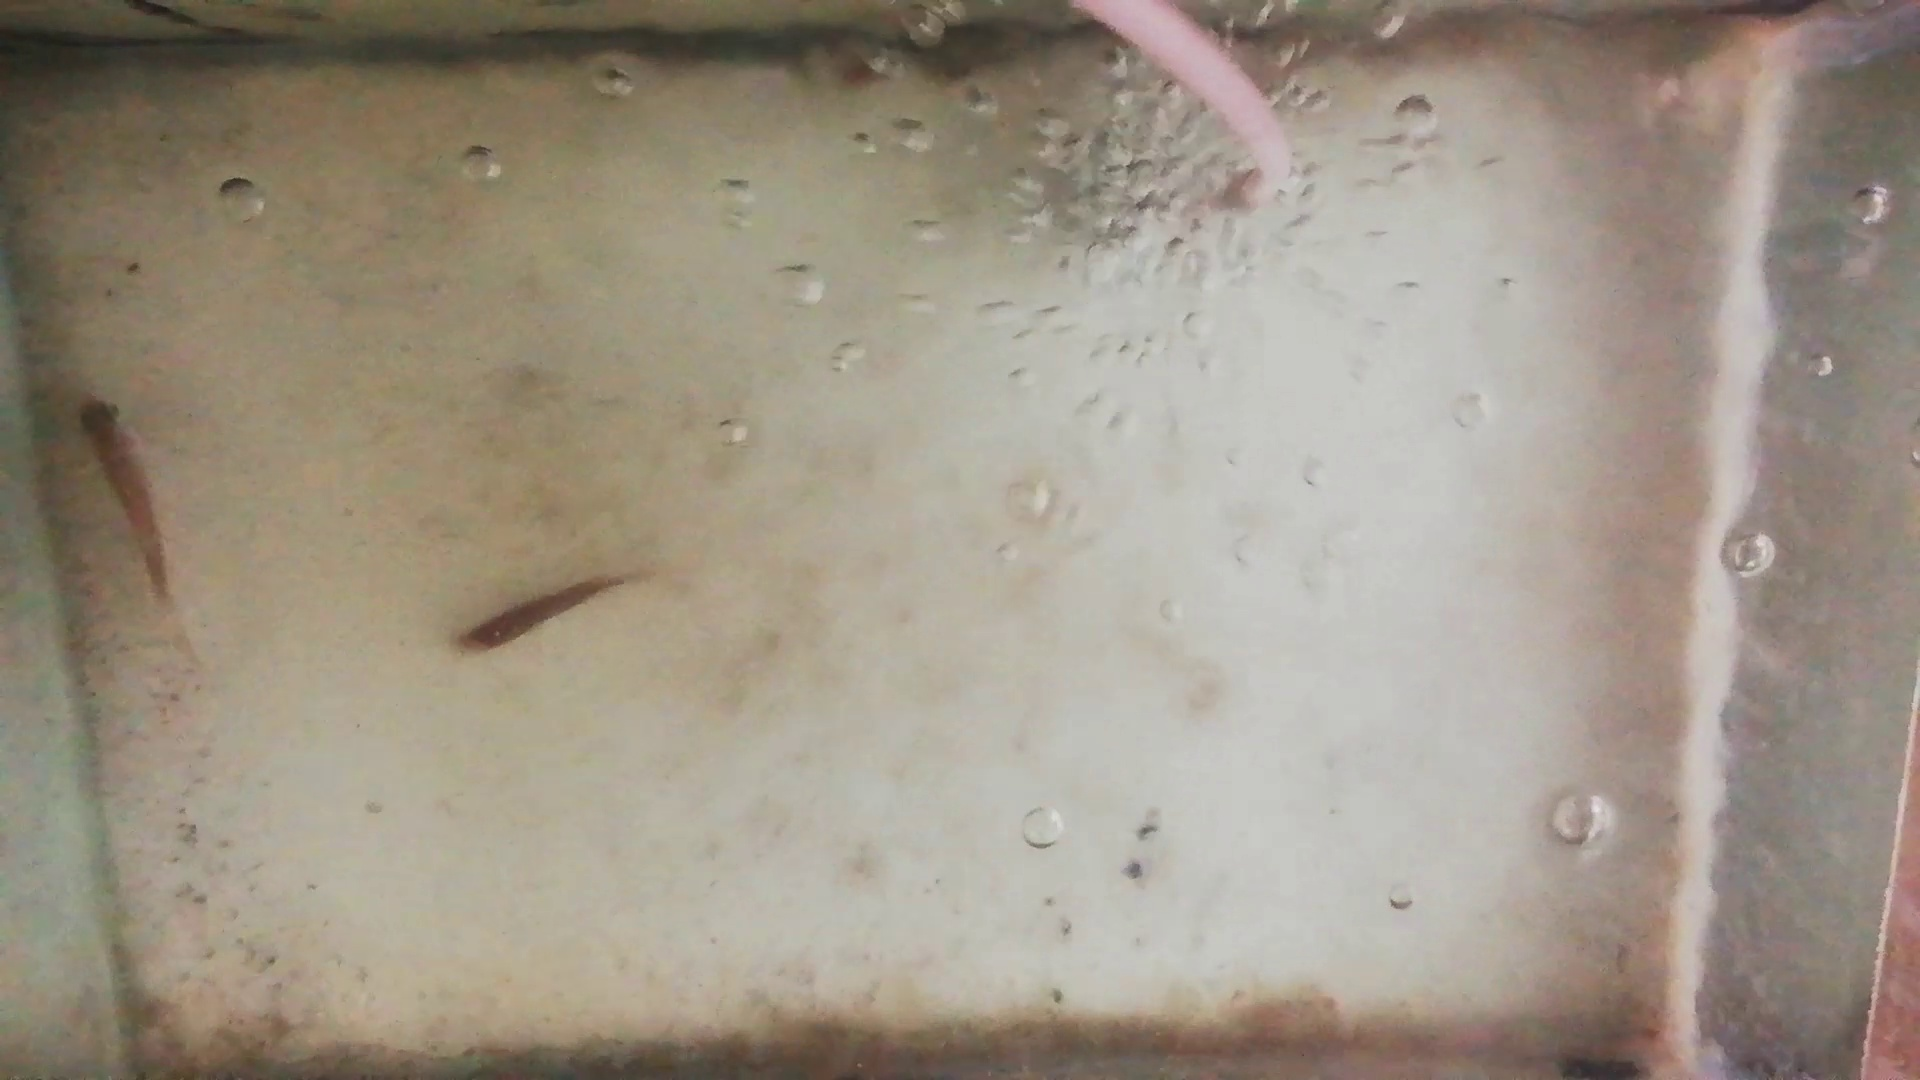fish: (75, 392, 167, 599), (460, 575, 621, 657)
